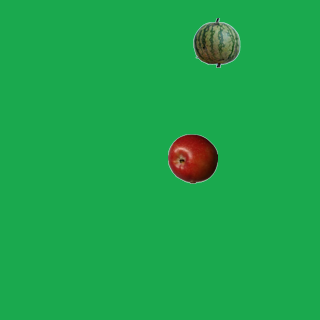Apple Braeburn: (167, 133, 217, 183)
Watermelon: (191, 17, 241, 67)
